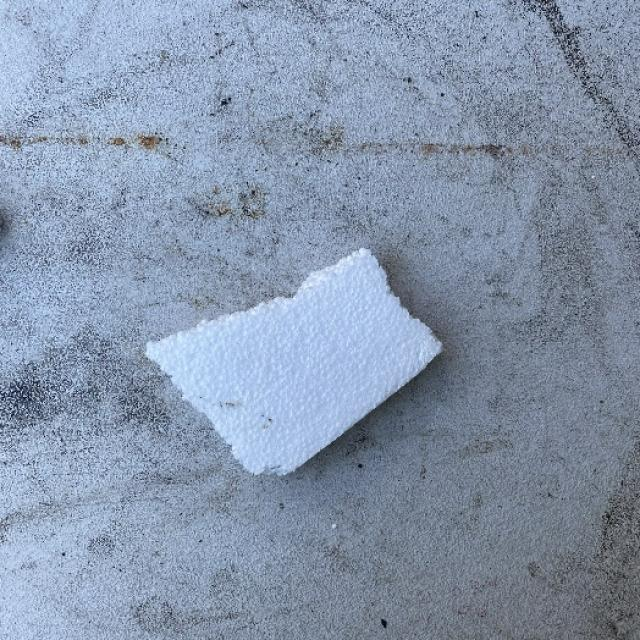styrofoam: (143, 245, 443, 478)
